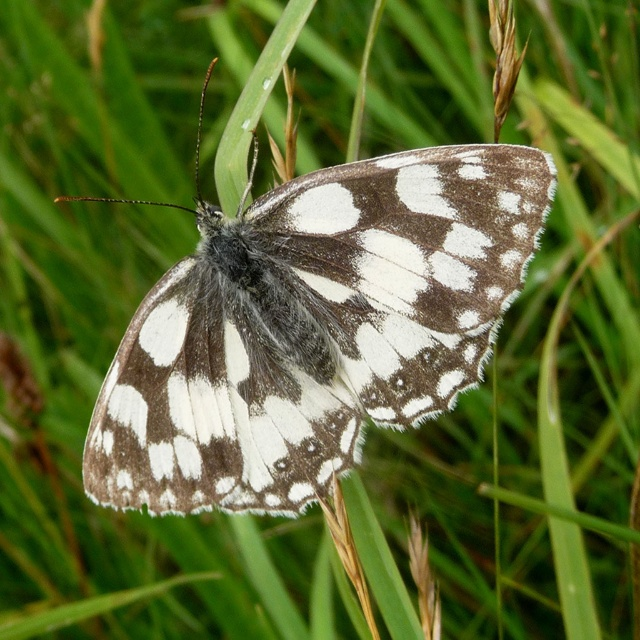Butterfly: (50, 41, 563, 529)
